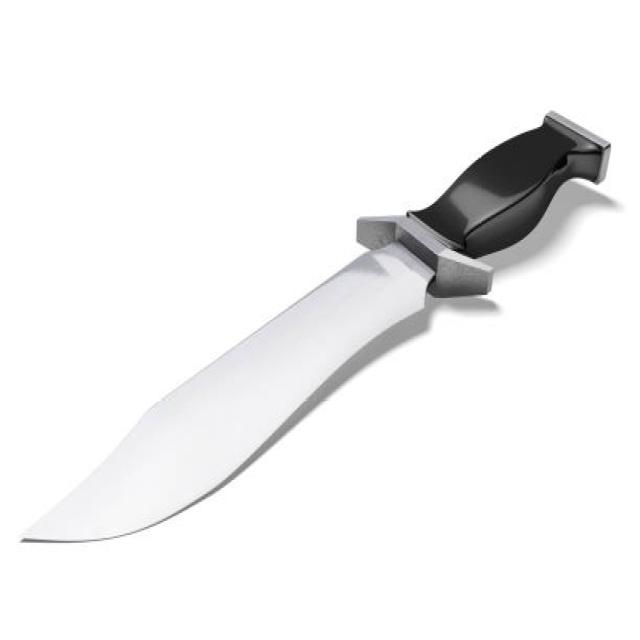knife: (12, 106, 617, 561)
